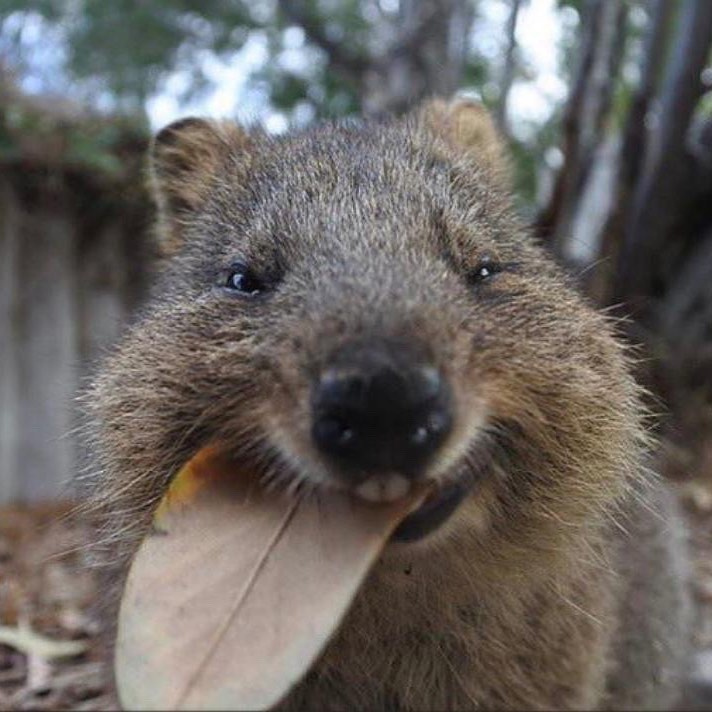quokka: (57, 80, 695, 712)
